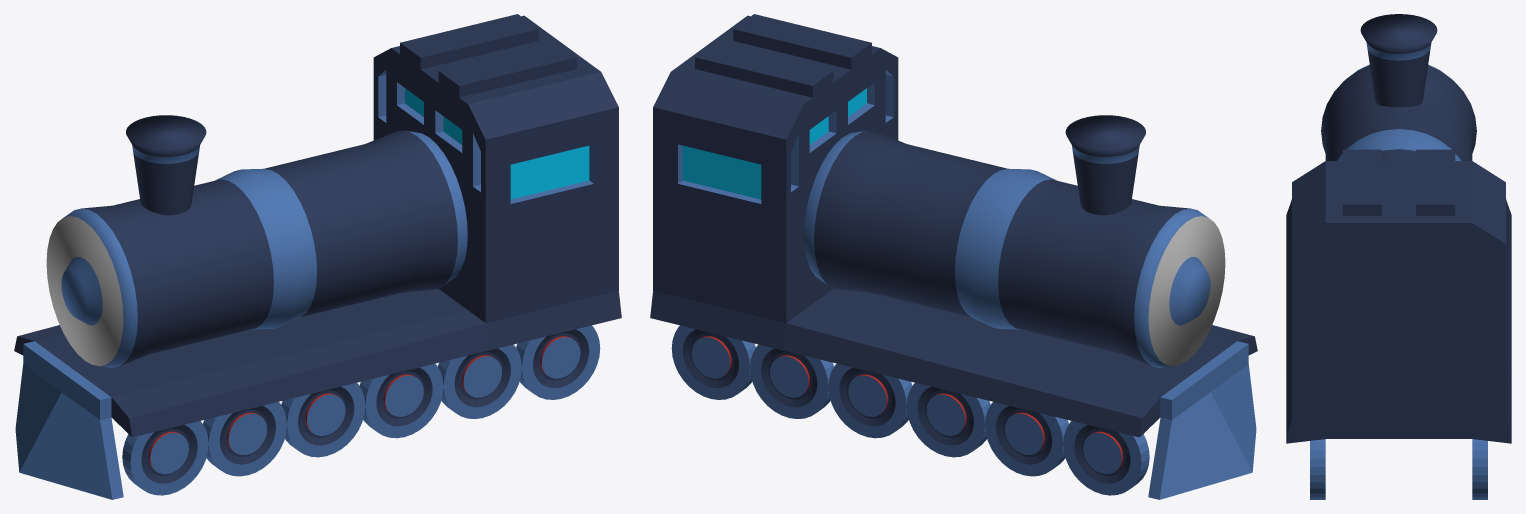
File: TrainModel05.fbx
The picture shows the model from 3 angles, left to right: view 1: azimuth 30°, elevation 25°; view 2: azimuth 150°, elevation 25°; view 3: azimuth 270°, elevation 25°; orthographic projection. The views are drawn at different scales.
Parts seen in each view (by area): view 1: TrainModel05; view 2: TrainModel05; view 3: TrainModel05.
Part boxes in pixels (x1,y1,x2,y2): TrainModel05: (14,14,621,499); TrainModel05: (650,14,1257,499); TrainModel05: (1286,14,1511,499).
Bounding box in the file's own units: 816 × 461 × 307.
